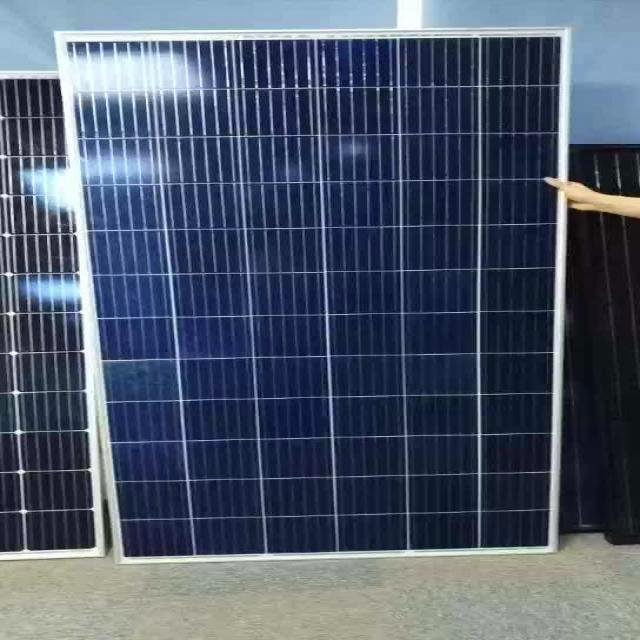no faulty: (0, 40, 568, 545)
